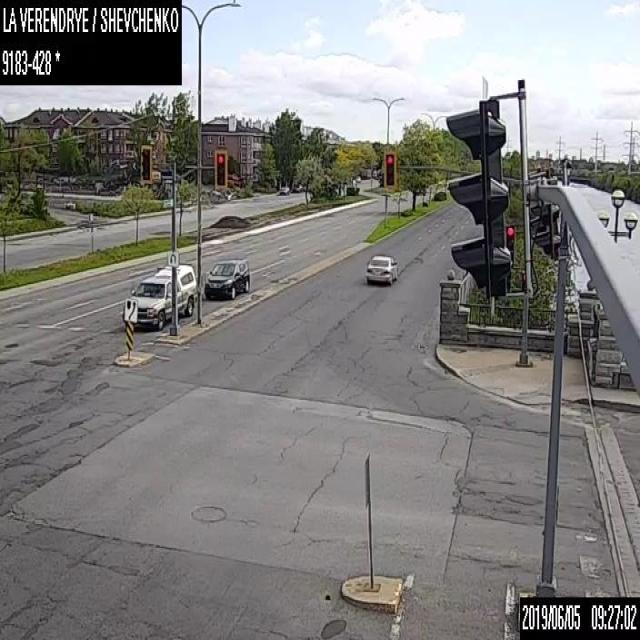vehicle: (126, 260, 196, 331), (203, 256, 250, 299), (366, 253, 398, 283), (293, 183, 302, 192), (279, 186, 289, 194)
